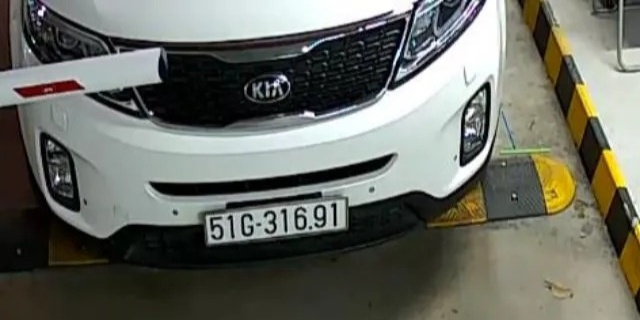bien_so: (206, 201, 346, 242)
